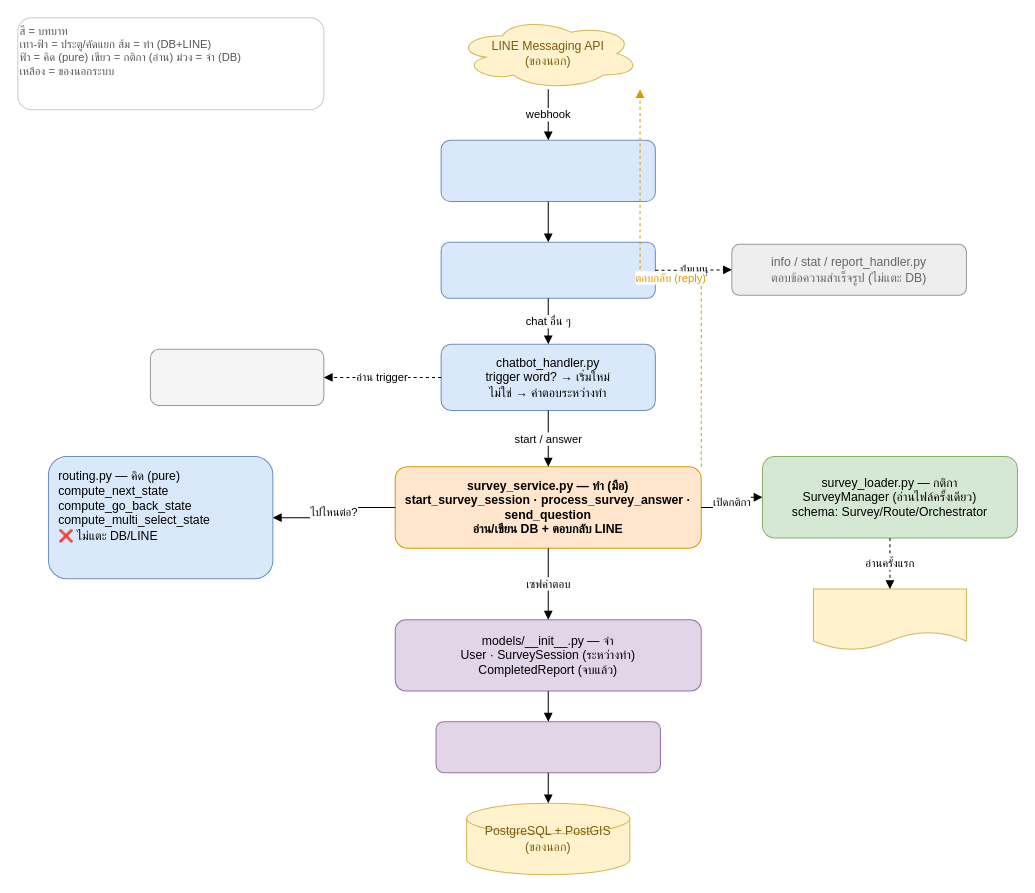
The diagram is 1035 pixels wide and 893 high, and some of its shapes have lost their labels. Here are the shapes that lost their labels. From the top down, the centre of each, then its label:
At [547,170]: "main.py FastAPI · POST /callback เช็คลายเซ็น · แยกชนิด event".
At [547,269]: "message_handler.py คัดแยก: ปุ่มเมนู หรือ chat".
At [236,376]: "config.py SURVEY_TRIGGER_MAP".
At [889,619]: "surveys/*.json นิยามแบบสำรวจ".
At [547,747]: "database/__init__.py engine · async session".
